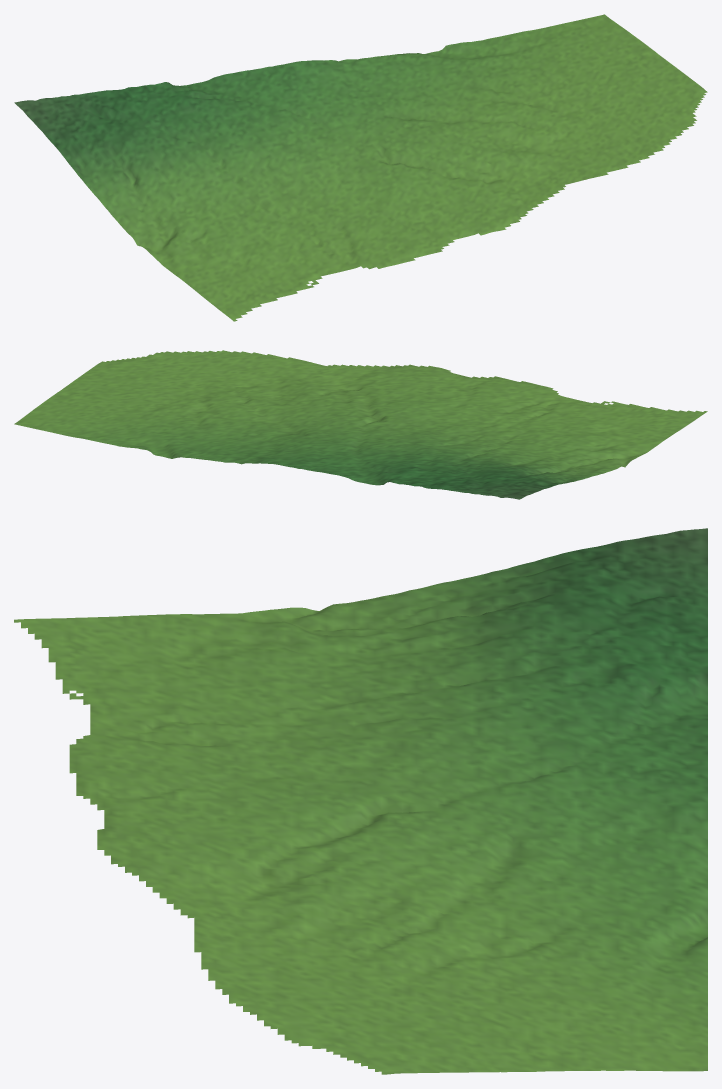
The model's file is lareunion-terrain-14.glb.
3 views of the same model, one above another, from view 1: azimuth 30°, elevation 25°; view 2: azimuth 150°, elevation 25°; view 3: azimuth 270°, elevation 25° (orthographic). The views are drawn at different scales.
Parts seen in each view (by area): view 1: LaReunionRgeAltiTerrain_14; view 2: LaReunionRgeAltiTerrain_14; view 3: LaReunionRgeAltiTerrain_14.
Part boxes in pixels (x1,y1,x2,y2): LaReunionRgeAltiTerrain_14: (14,14,707,321); LaReunionRgeAltiTerrain_14: (14,350,707,499); LaReunionRgeAltiTerrain_14: (14,528,707,1074).
Bounding box in the file's own units: 55.09 × 5.19 × 35.53.
